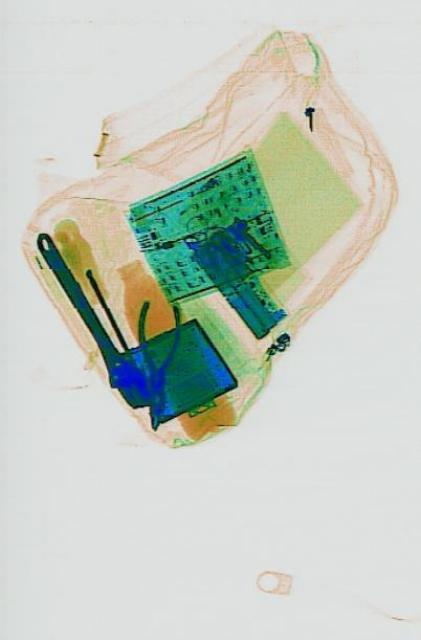Pliers: (130, 298, 179, 430)
Wrench: (25, 215, 155, 418)
